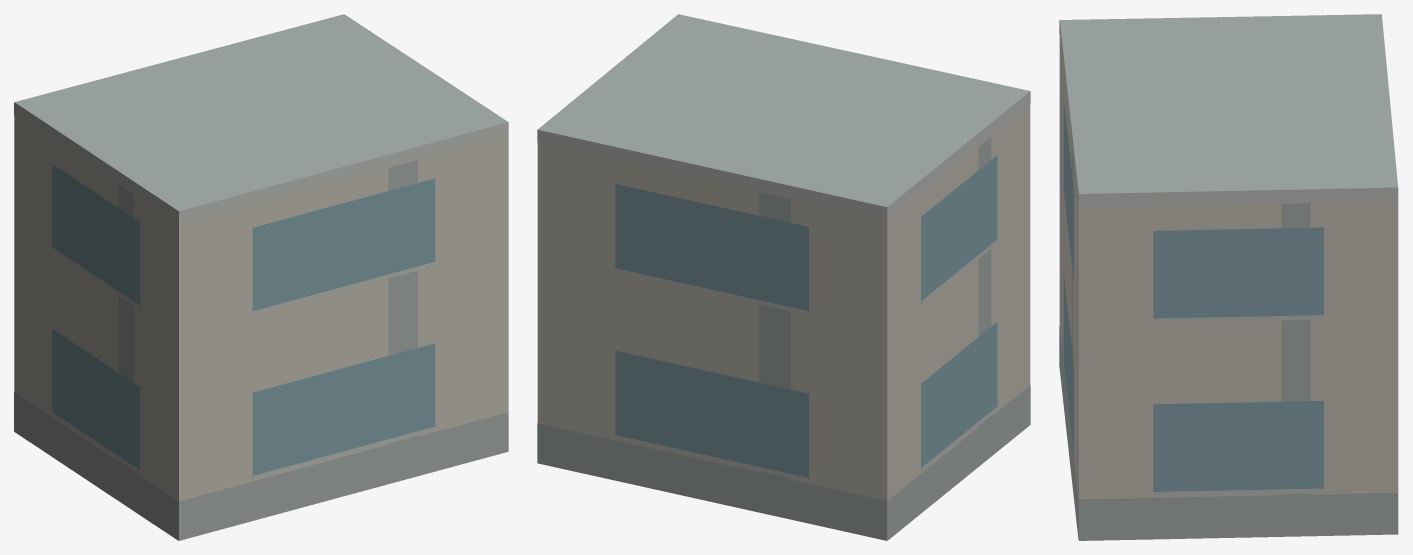
Rendered from survey-upis-32706000.glb.
3 views of the same model, side by side, from view 1: azimuth 30°, elevation 25°; view 2: azimuth 150°, elevation 25°; view 3: azimuth 270°, elevation 25° (orthographic). The views are drawn at different scales.
Parts seen in each view (by area): view 1: survey-upis-32706000.tmp; view 2: survey-upis-32706000.tmp; view 3: survey-upis-32706000.tmp.
Boxes of the visible parts, x1,y1,x2,y2 form: survey-upis-32706000.tmp: [14, 14, 508, 540]; survey-upis-32706000.tmp: [537, 14, 1030, 540]; survey-upis-32706000.tmp: [1059, 14, 1398, 540].
Bounding box in the file's own units: 6.8 × 6.1 × 5.41.
